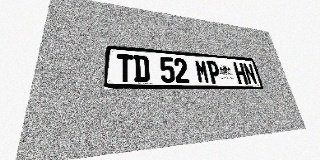2: (173, 58, 189, 83)
5: (160, 57, 176, 83)
D: (133, 55, 150, 83)
H: (233, 62, 248, 84)
M: (194, 59, 210, 84)
N: (242, 63, 258, 84)
P: (206, 60, 222, 84)
T: (117, 53, 134, 82)
